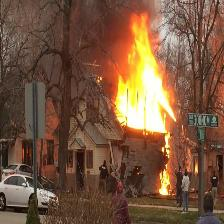fire: (116, 13, 181, 136), (159, 139, 175, 197)
